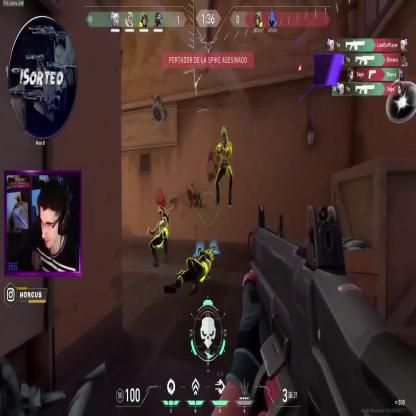enemy: (215, 125, 234, 209)
enemy_head: (221, 127, 228, 142)
